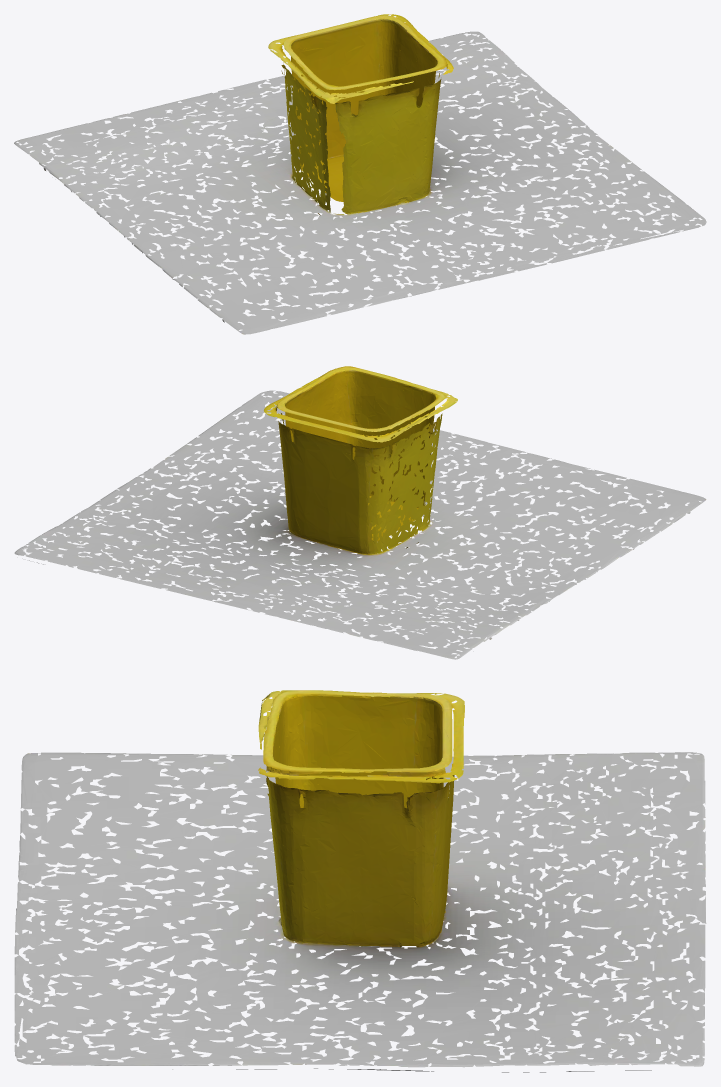
3 renders of one model, top to bottom at view 1: azimuth 30°, elevation 25°; view 2: azimuth 150°, elevation 25°; view 3: azimuth 270°, elevation 25°, orthographic. The views are drawn at different scales.
Parts seen in each view (by area): view 1: geometry_0; view 2: geometry_0; view 3: geometry_0.
Boxes of the visible parts, x1=… form: geometry_0: x1=14, y1=14, x2=706, y2=334; geometry_0: x1=14, y1=366, x2=706, y2=659; geometry_0: x1=14, y1=690, x2=706, y2=1072.
Size of the model in its own units: 0.9963 by 0.2868 by 0.9027.
Materials: 1 (1 with a texture image).
